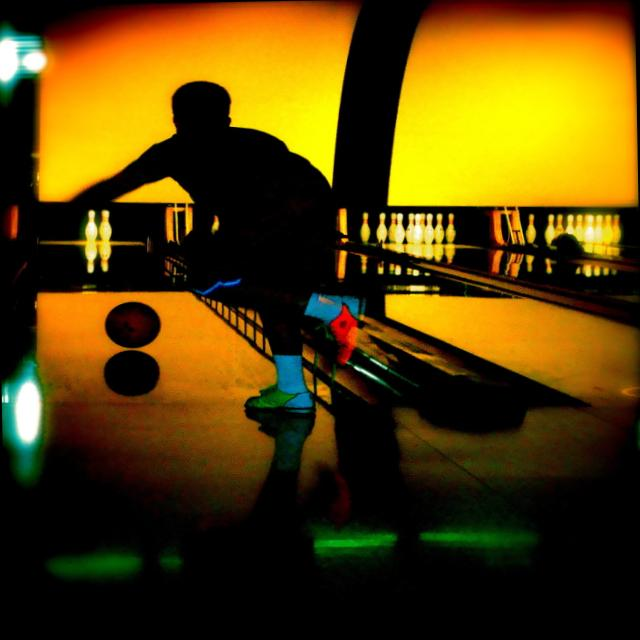Ball: (100, 302, 161, 348)
